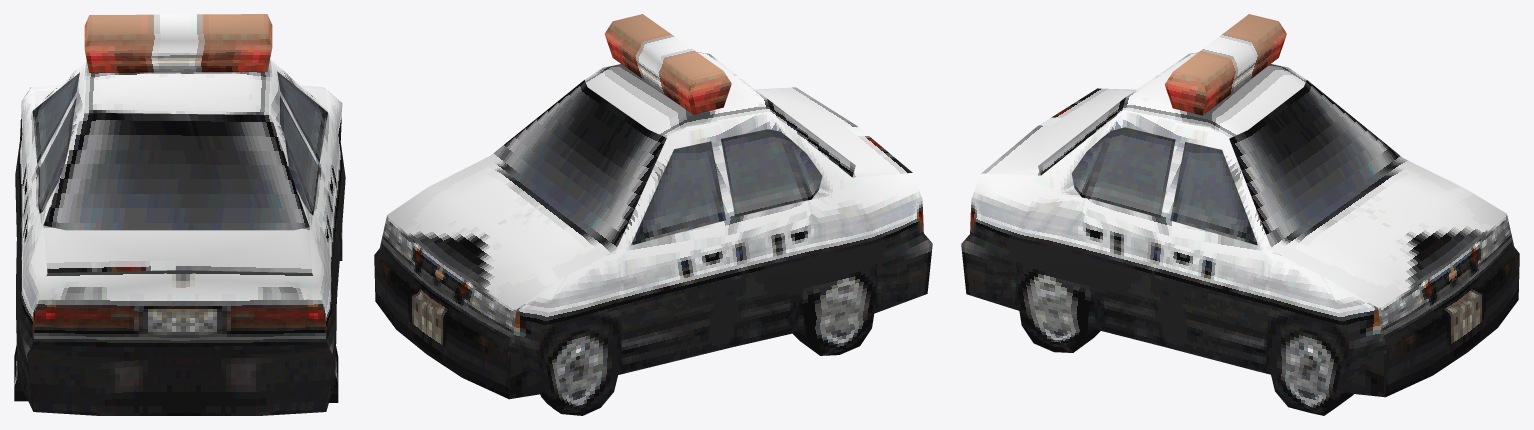
Rendered from ps2_save-icons_police247.glb.
3 renders of one model, left to right at view 1: azimuth 30°, elevation 25°; view 2: azimuth 150°, elevation 25°; view 3: azimuth 270°, elevation 25°, orthographic. The views are drawn at different scales.
Visible parts, largest first — view 1: mcicon_jp.ico; view 2: mcicon_jp.ico; view 3: mcicon_jp.ico.
Boxes of the visible parts, x1,y1,x2,y2 form: mcicon_jp.ico: (14,14,345,415); mcicon_jp.ico: (374,14,932,415); mcicon_jp.ico: (961,14,1519,415).
Size of the model in its own units: 4.28 by 2.78 by 5.04.
1 material, 1 textured.
